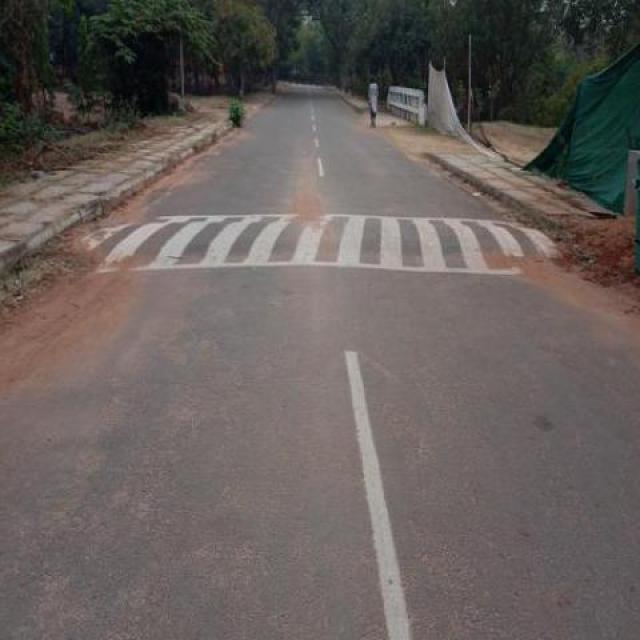Speed Bump: (77, 213, 560, 275)
